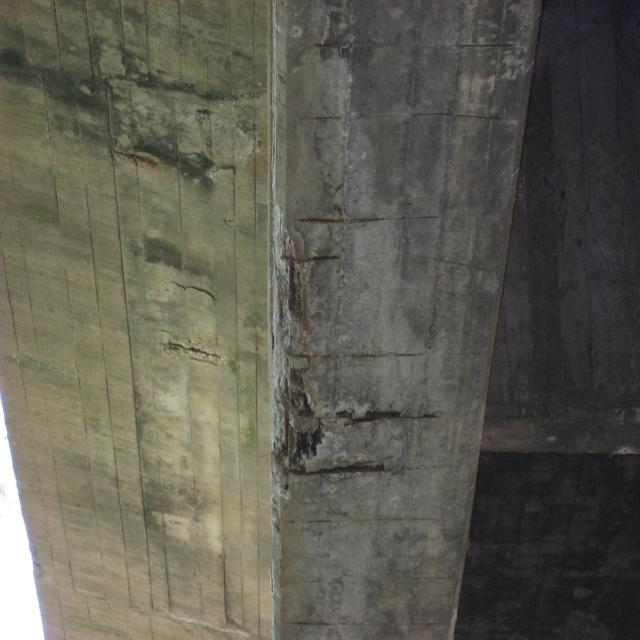corrosion: (276, 209, 448, 492), (165, 336, 224, 362), (279, 505, 348, 525), (283, 614, 362, 630), (410, 109, 504, 122), (112, 146, 162, 170), (456, 41, 516, 51), (311, 40, 355, 52), (194, 102, 215, 121), (313, 112, 344, 124)
